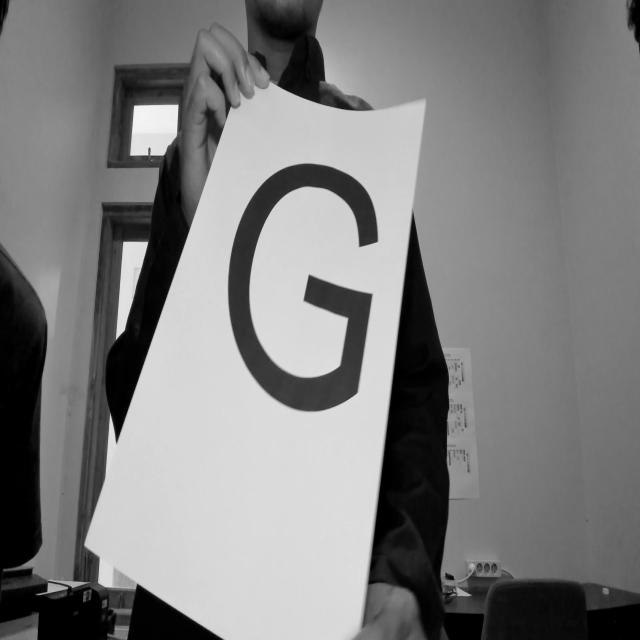g: (222, 153, 384, 419)
